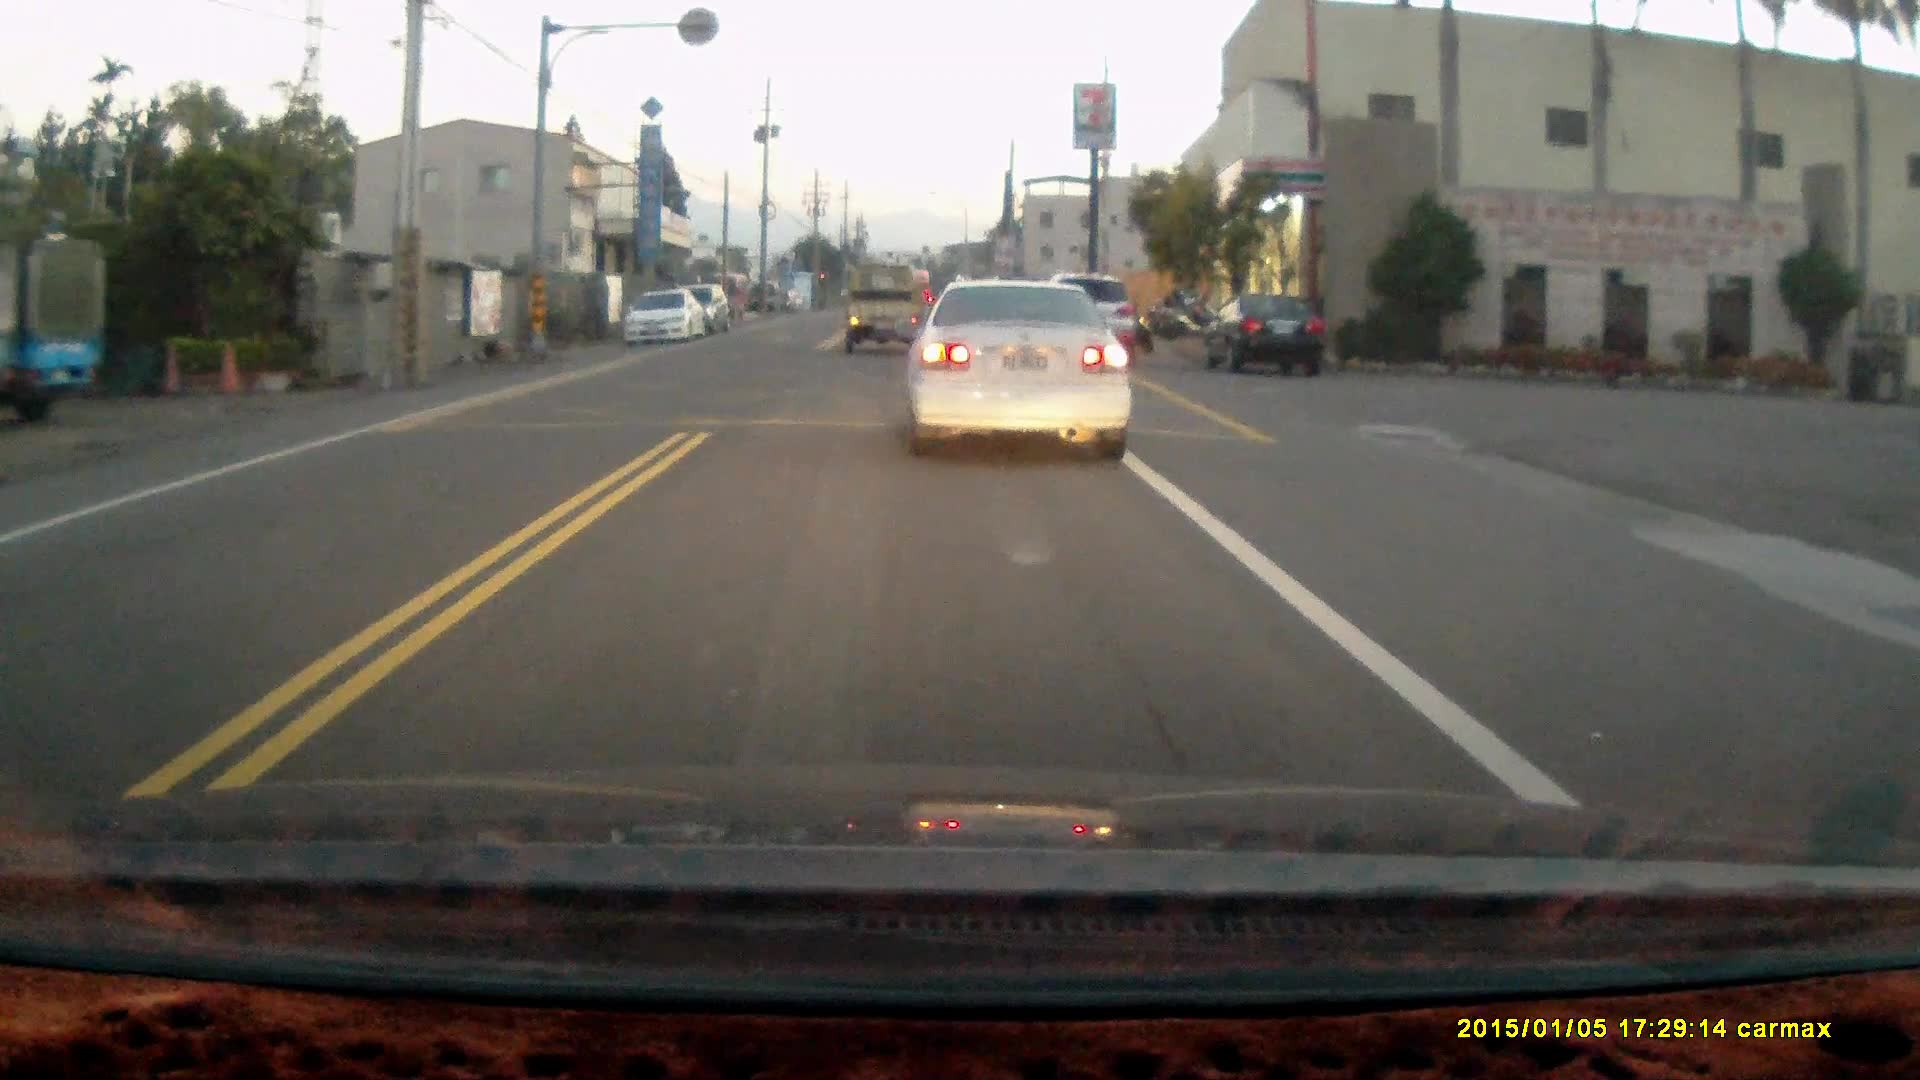vehicle: (913, 273, 1143, 462), (1197, 289, 1328, 373), (840, 265, 935, 356), (618, 284, 709, 347)
